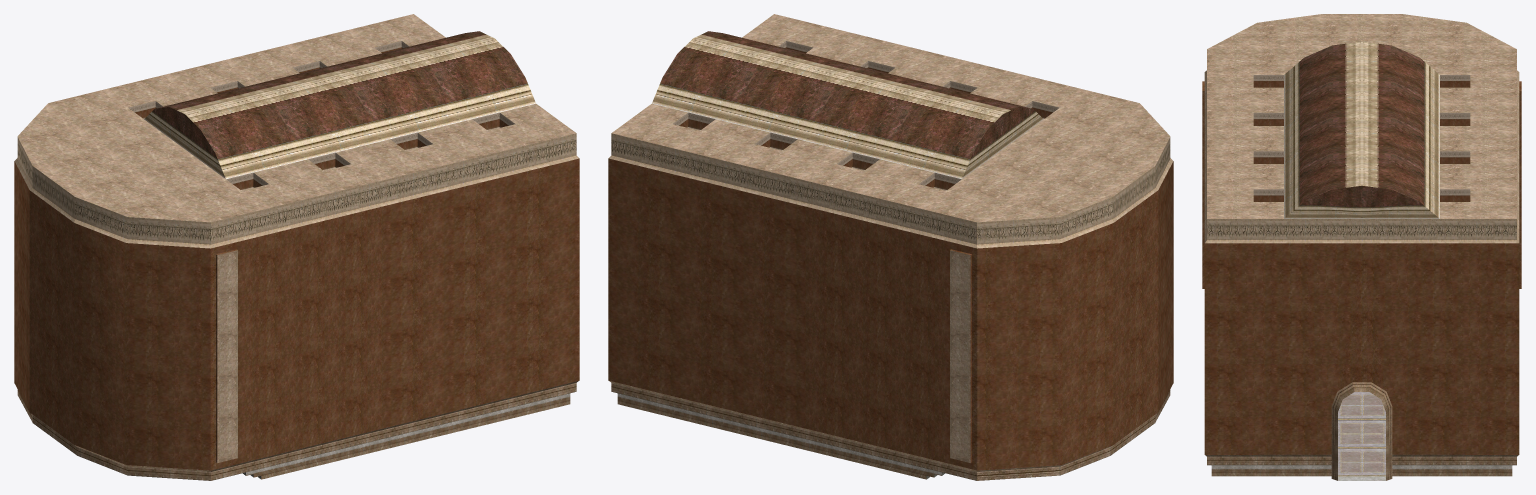
File: thm_nboo_thed_theed_palace_r9_mesh_r9.fbx
3 views of the same model, side by side, from view 1: azimuth 30°, elevation 25°; view 2: azimuth 150°, elevation 25°; view 3: azimuth 270°, elevation 25° (orthographic). The views are drawn at different scales.
Visible parts, largest first — view 1: mesh_node; view 2: mesh_node; view 3: mesh_node.
Part boxes in pixels (x1,y1,x2,y2): mesh_node: (14,14,579,480); mesh_node: (608,14,1173,480); mesh_node: (1202,14,1521,480).
Bounding box in the file's own units: 32.91 × 21.45 × 21.25.
